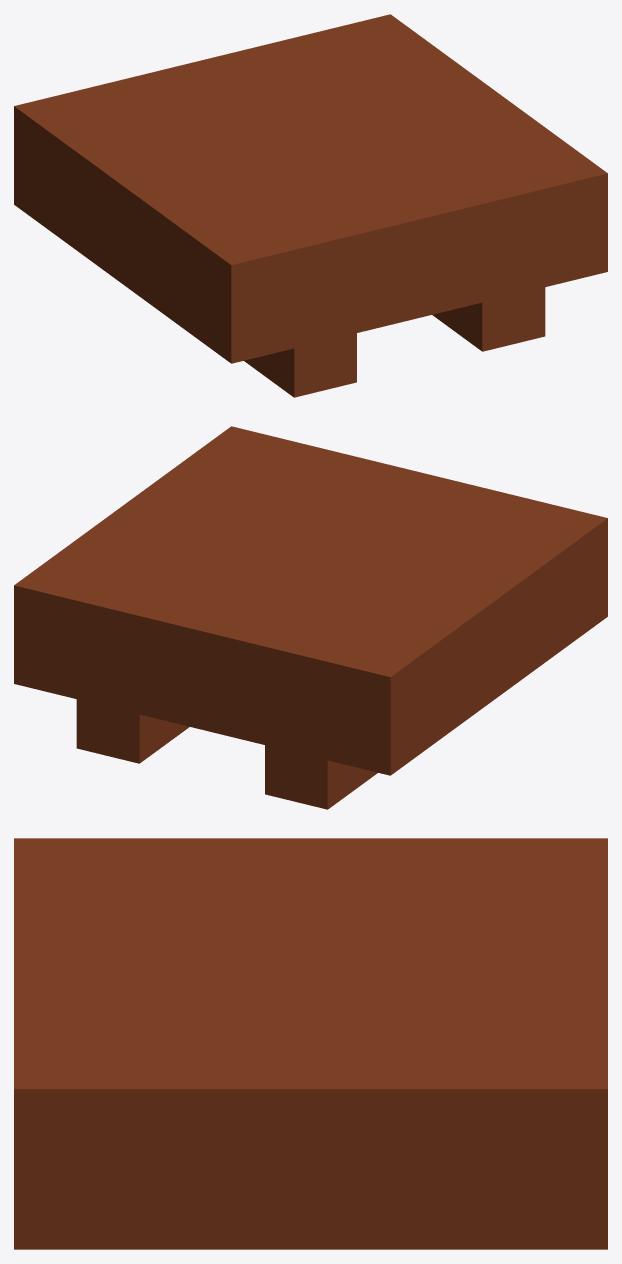
File: wood-2full.fbx
3 views of the same model, one above another, from view 1: azimuth 30°, elevation 25°; view 2: azimuth 150°, elevation 25°; view 3: azimuth 270°, elevation 25° (orthographic). The views are drawn at different scales.
Parts seen in each view (by area): view 1: Cube.039; view 2: Cube.039; view 3: Cube.039.
Part boxes in pixels (box(x1,y1,x2,y2)): Cube.039: box(14, 14, 607, 397); Cube.039: box(14, 426, 607, 809); Cube.039: box(14, 838, 607, 1249).
Size of the model in its own units: 200 by 75 by 200.
